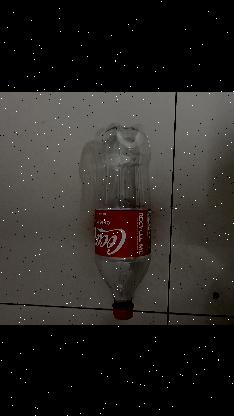Plastic Bottle: (78, 107, 154, 321)
